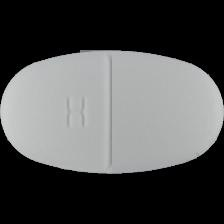50436-9054: (0, 0, 224, 224)
